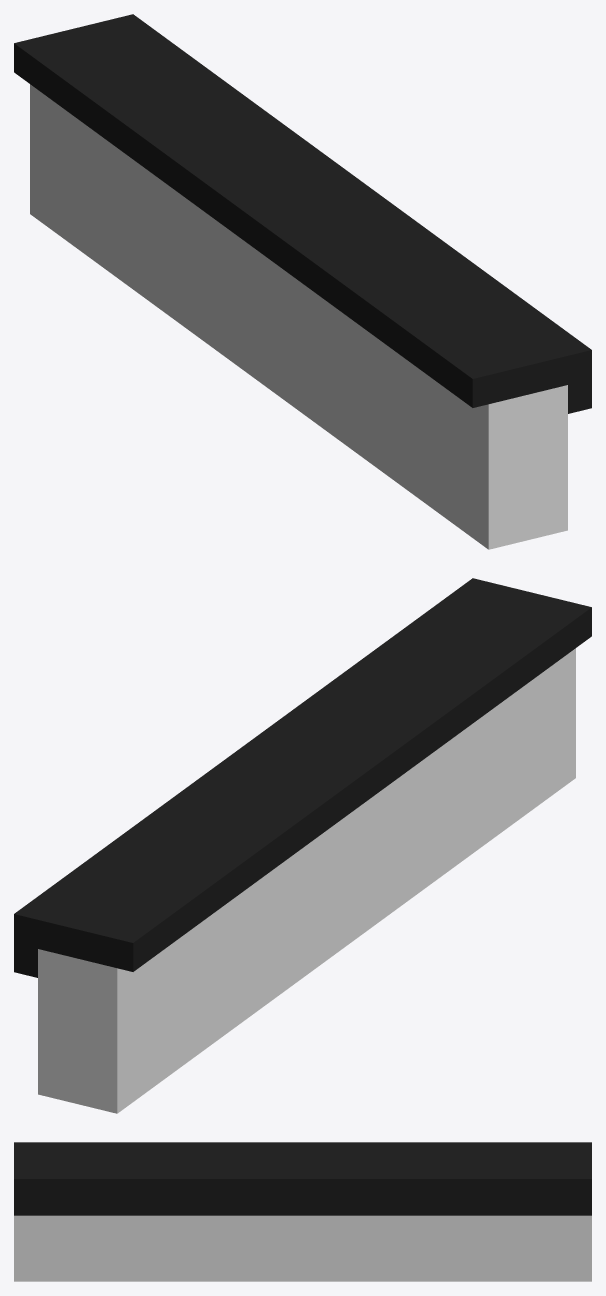
The model's file is SM_Build_Attika_Dachkante.fbx.
The picture shows the model from 3 angles, top to bottom: view 1: azimuth 30°, elevation 25°; view 2: azimuth 150°, elevation 25°; view 3: azimuth 270°, elevation 25°; orthographic projection. The views are drawn at different scales.
Visible parts, largest first — view 1: Attika Dachkante; view 2: Attika Dachkante; view 3: Attika Dachkante.
Part boxes in pixels (x1,y1,x2,y2): Attika Dachkante: [14, 14, 591, 549]; Attika Dachkante: [14, 578, 591, 1113]; Attika Dachkante: [14, 1142, 591, 1281].
Size of the model in its own units: 0.3 by 0.42 by 2.
